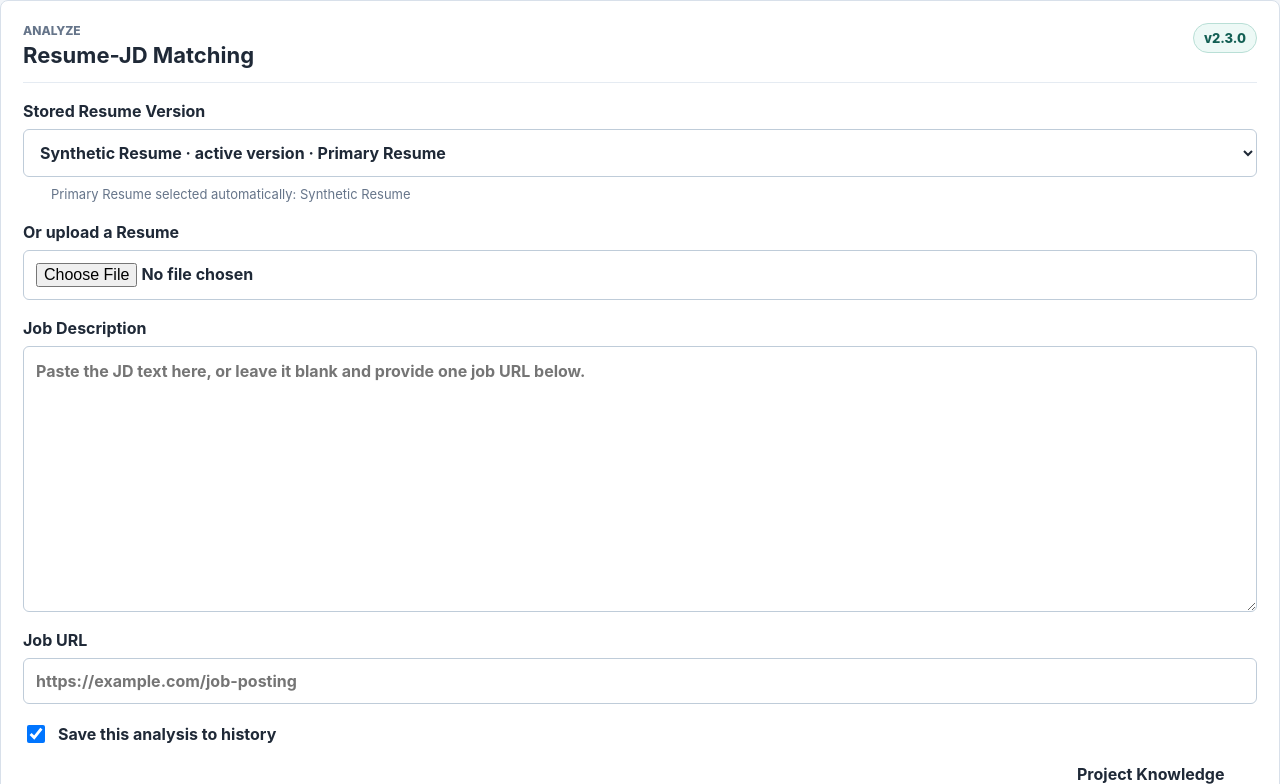
it: Version 2.0.1 simplified workspace › shows usable results for partial analysis
Replace the text in the text box labelled "Job Description" with "Synthetic FastAPI role": coordinates (640, 479) 23,346 -> 1257,612
(page scrolled)
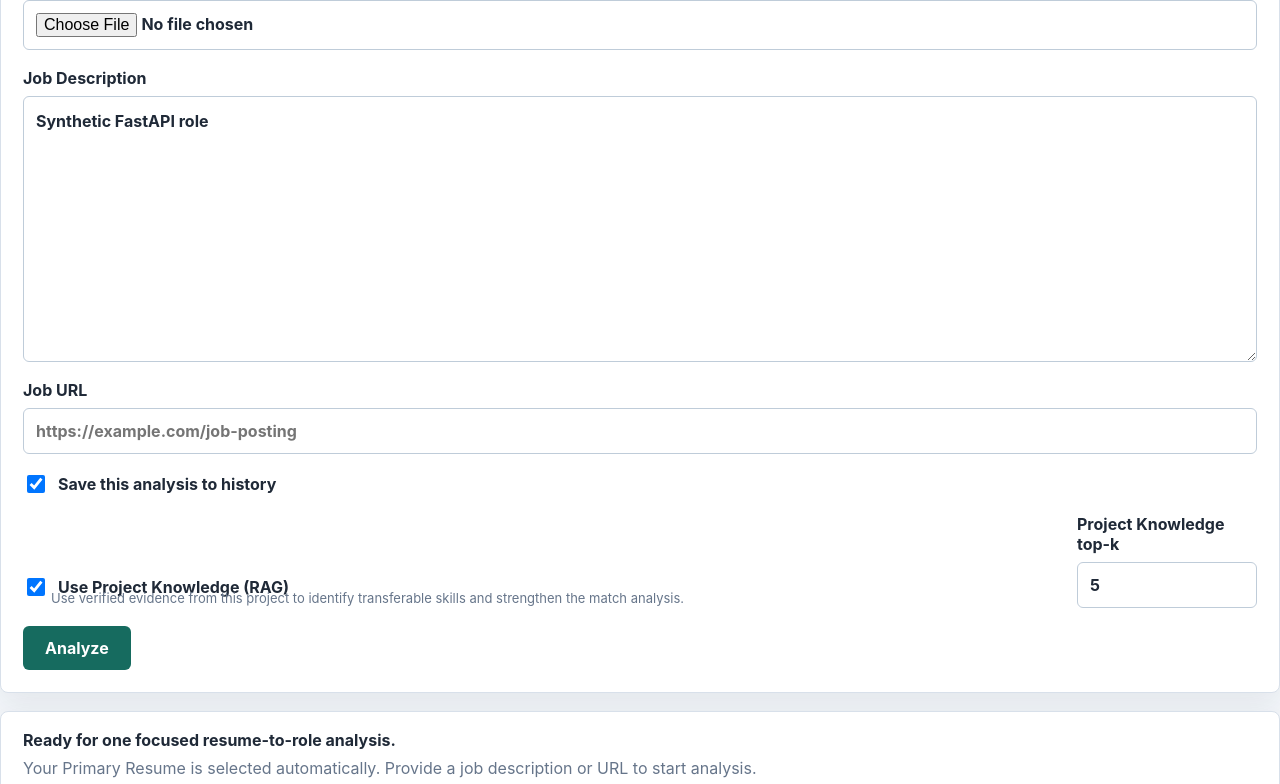
Click the button "Analyze": coordinates (77, 648) 23,626 -> 131,670
(page scrolled)
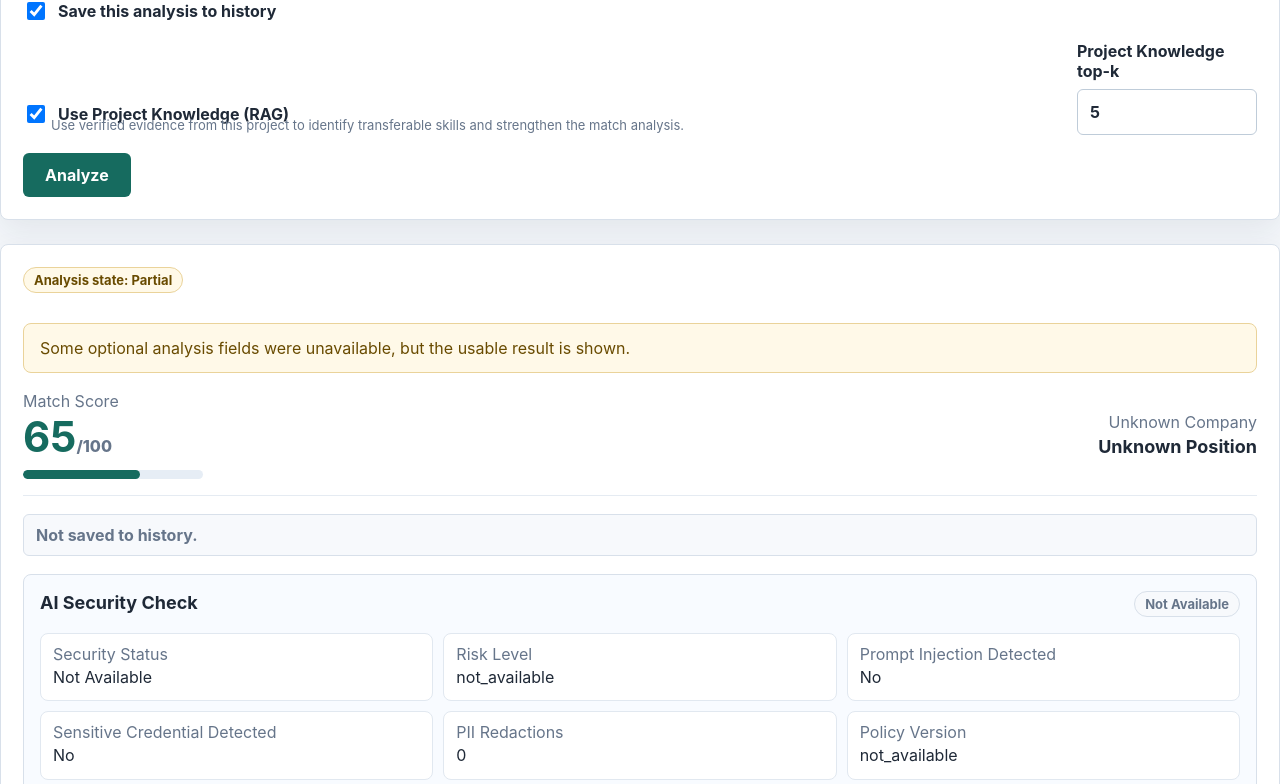
Check: the button "Analyze" is enabled, box 23,153 -> 131,197
Check: the text "optional analysis fields were unavailable" is shown, box 40,338 -> 630,358
Check: the text "Match Score" is shown, box 23,391 -> 119,411
